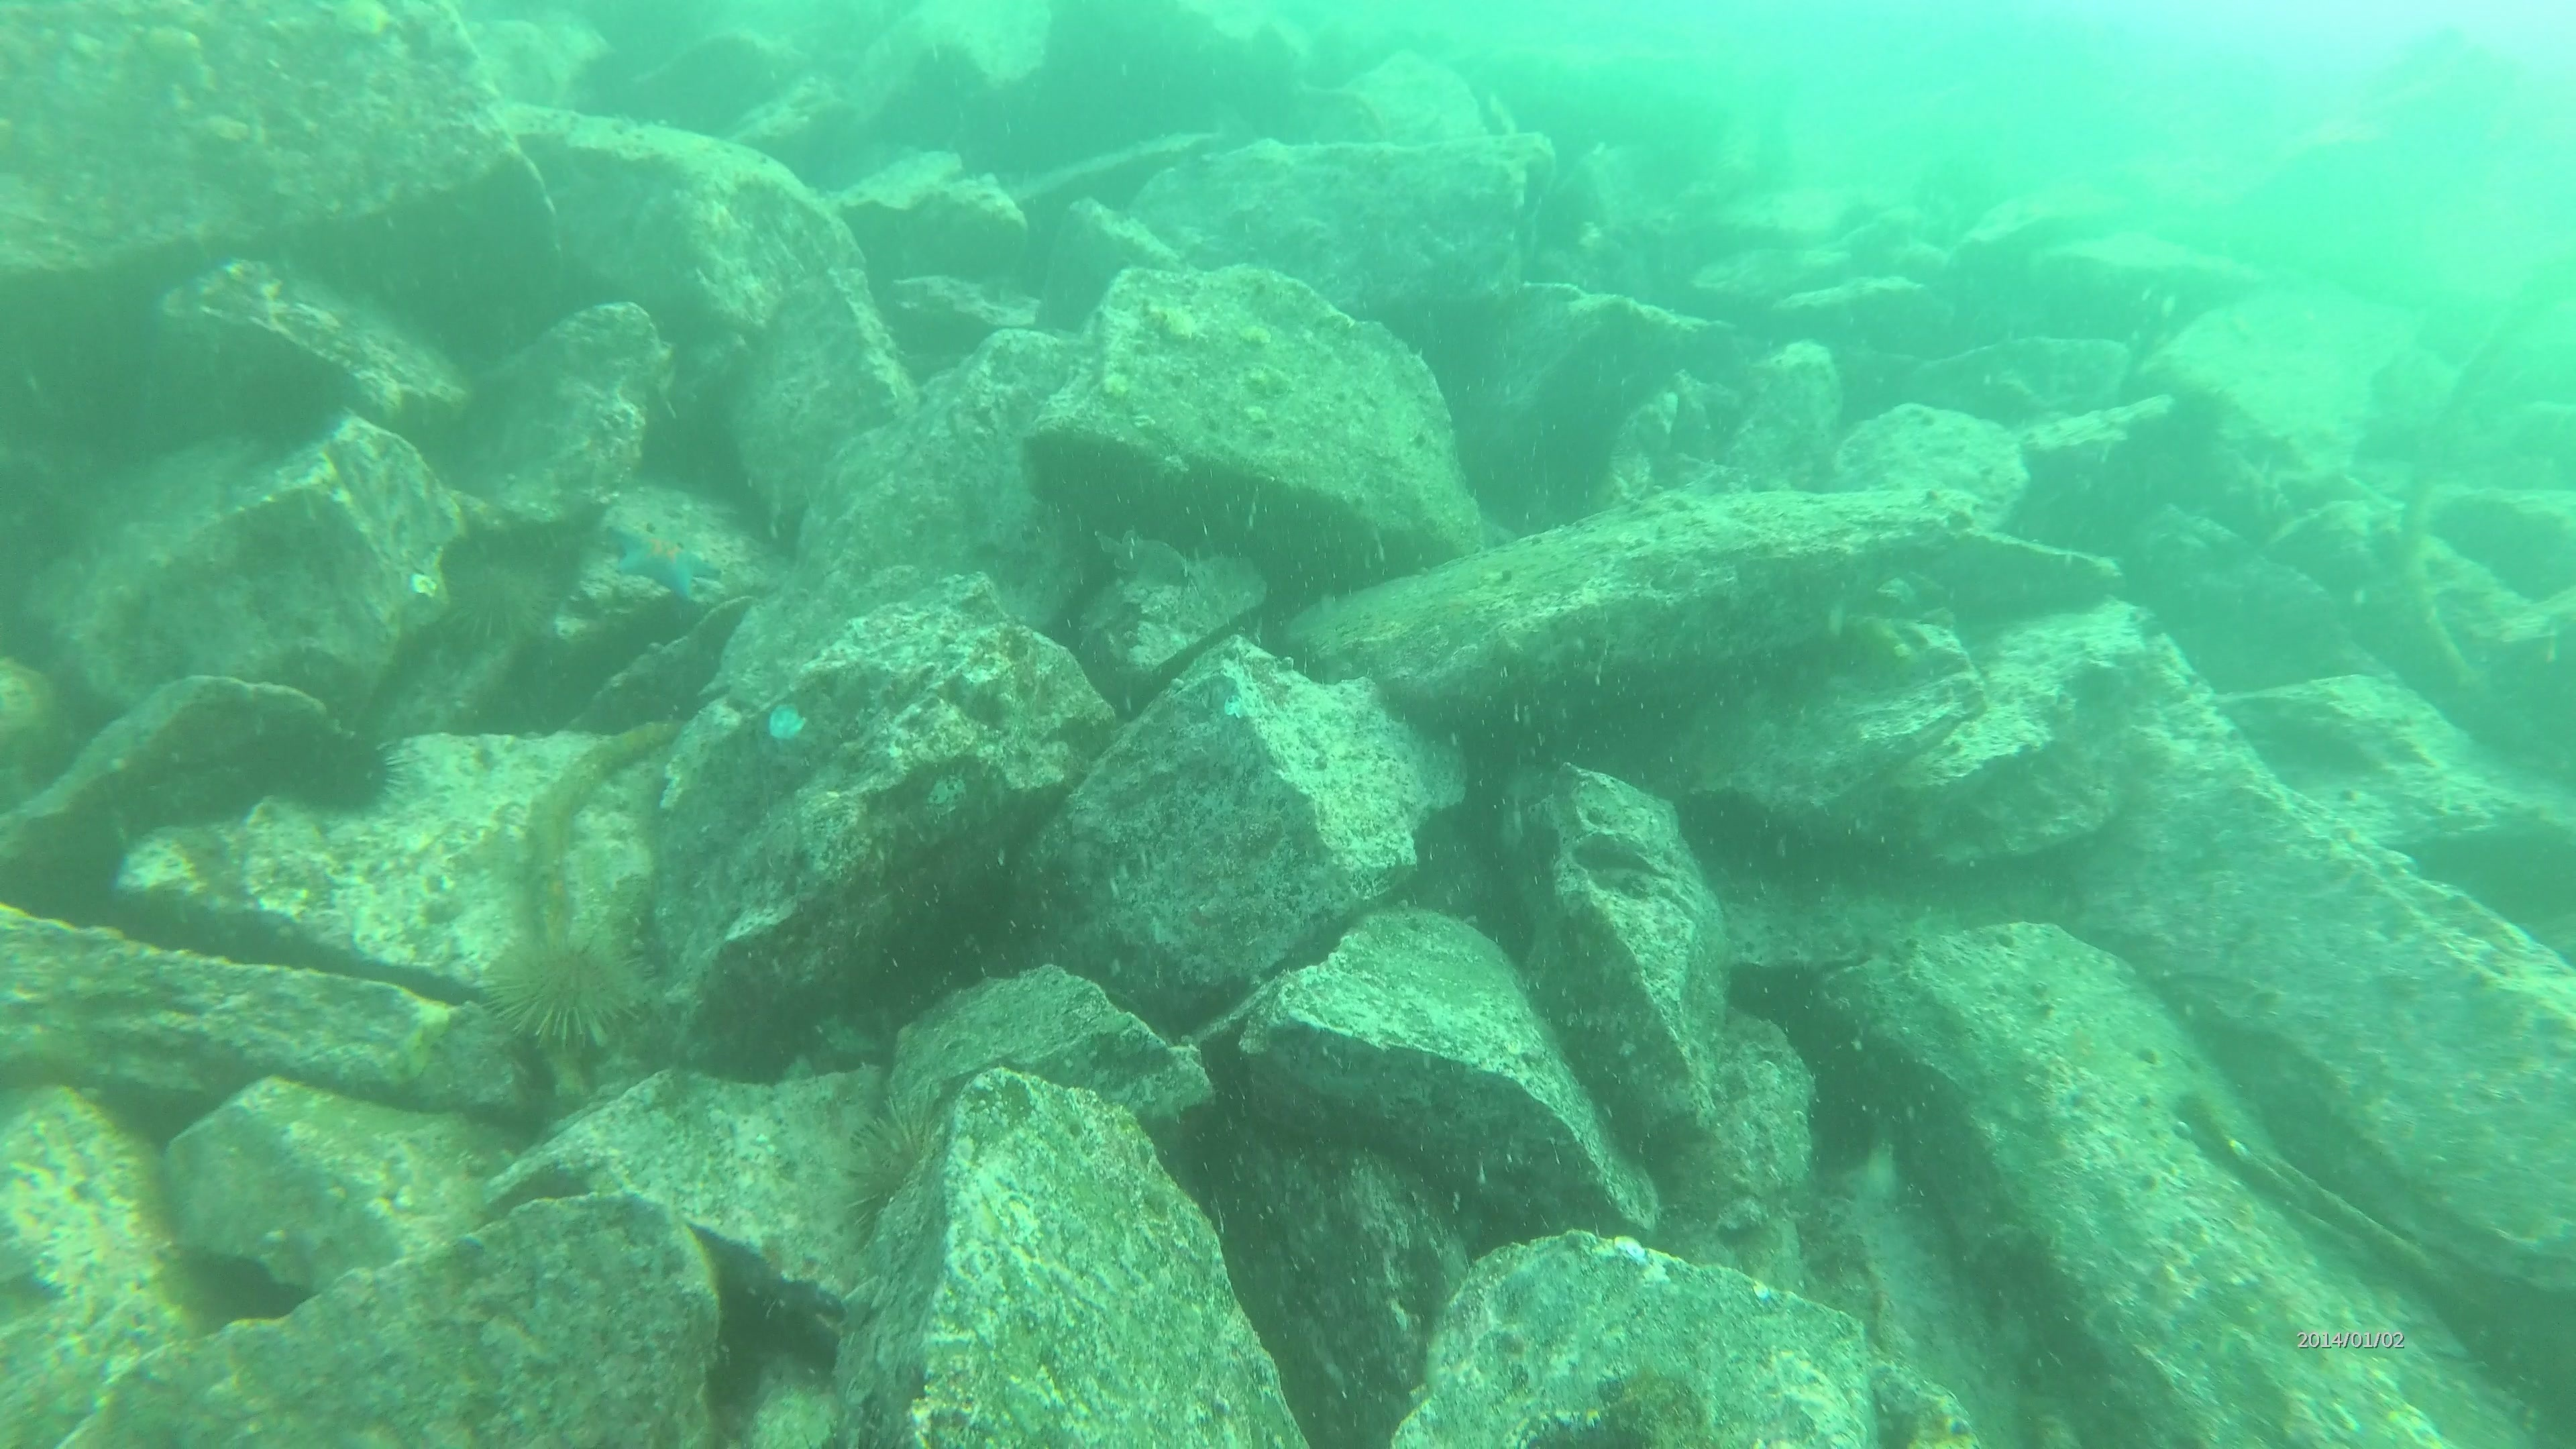echinus: (478, 922, 655, 1062), (833, 1092, 966, 1247), (430, 518, 571, 656), (262, 711, 405, 824), (225, 343, 357, 462)
starfish: (596, 510, 722, 603)
